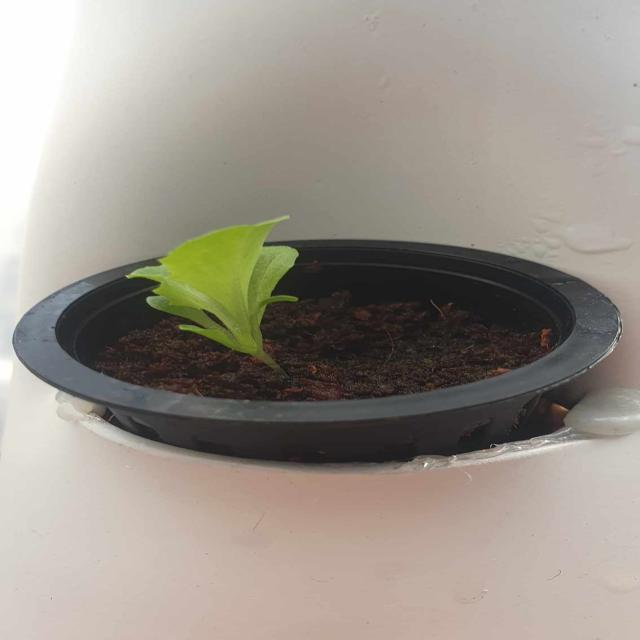Lettuce-Not-Ready-to-Harvest: (123, 207, 303, 369)
